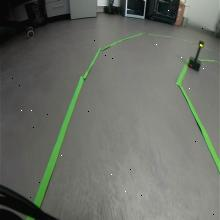green: (198, 39, 205, 49)
